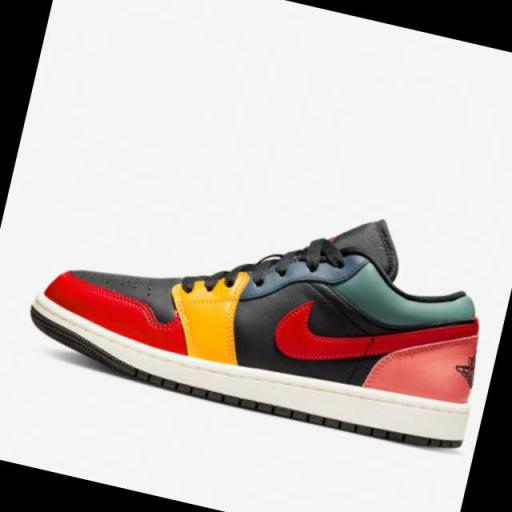Nike: (263, 277, 476, 399)
